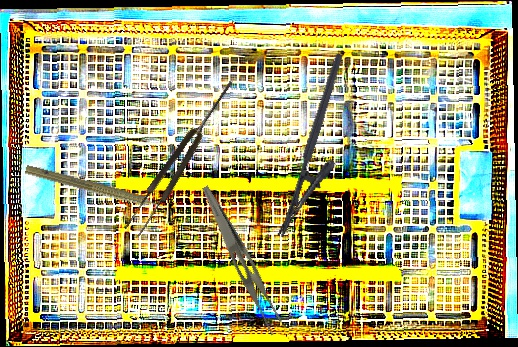Dressing Forceps: (186, 184, 292, 338)
Handpiece: (23, 162, 172, 218)
Needle Holder: (275, 52, 369, 247)
Tissue Forceps: (121, 74, 243, 240)
